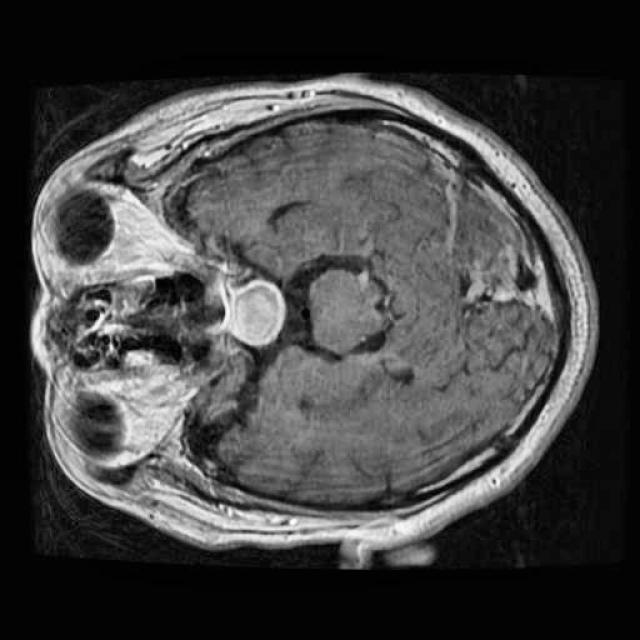Tumor: (219, 262, 301, 359)
